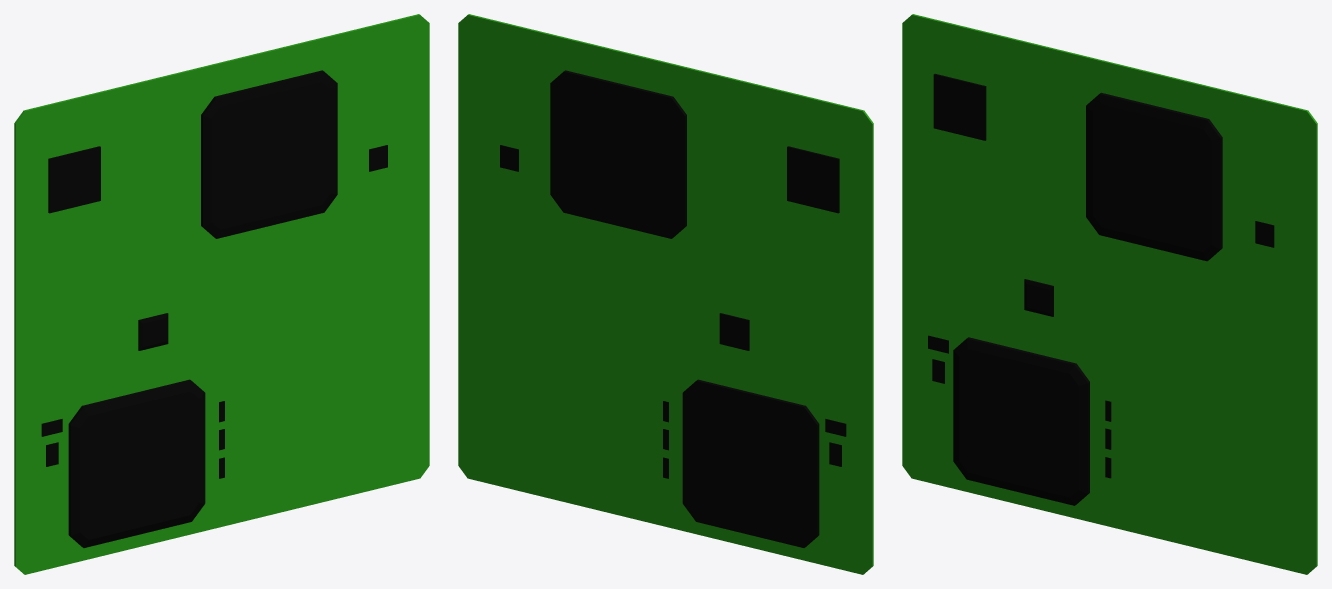
Rendered from PCB.glb.
3 views of the same model, side by side, from view 1: azimuth 30°, elevation 25°; view 2: azimuth 150°, elevation 25°; view 3: azimuth 330°, elevation 25° (orthographic).
Parts seen in each view (by area): view 1: PCB; view 2: PCB; view 3: PCB.
Boxes of the visible parts, left/top/right/bottom form: PCB: left=14, top=14, right=429, bottom=574; PCB: left=458, top=14, right=873, bottom=574; PCB: left=902, top=14, right=1317, bottom=574.
Bounding box in the file's own units: 0.121 × 0.1294 × 0.00343.
